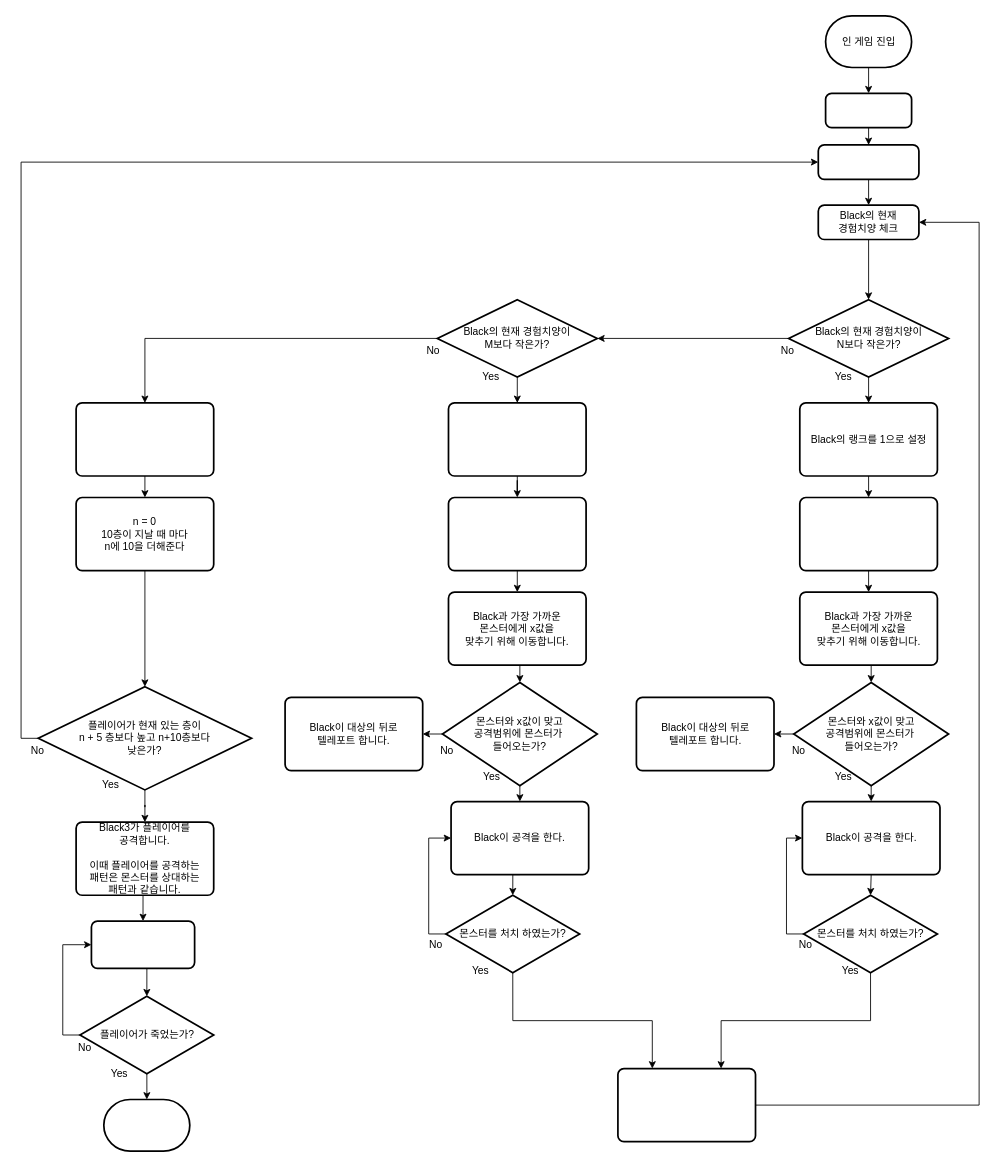
This 1001x1166 diagram has some shape labels left out. The shapes that lost their labels are listed below. From the top down, each one's centre as x and y in pixels, then its label:
At pixel 868 110: "Black 보유".
At pixel 868 162: "Black이 플레이어를 공격하지 않는다.".
At pixel 144 439: "Black의 랭크를 3으로 설정".
At pixel 517 439: "Black의 랭크를 2으로 설정".
At pixel 517 533: "Black의 이미지가 B로 바뀝니다.".
At pixel 868 533: "Black의 이미지가 A로 바뀝니다.".
At pixel 142 944: "Black이 공격을 한다".
At pixel 686 1104: "몬스터가 주는 경험치를 Black의 현재 경험치에 더합니다.".
At pixel 146 1125: "timeRoof UI 실행".
